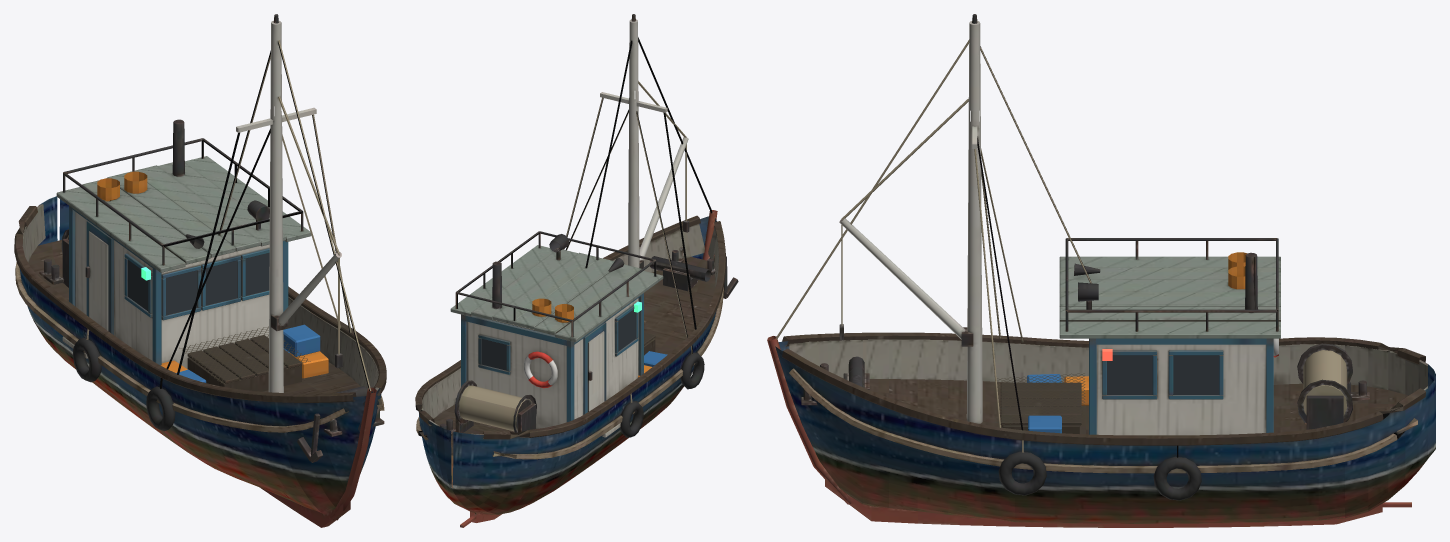
The model's file is fishing-boat.glb.
3 views of the same model, side by side, from view 1: azimuth 30°, elevation 25°; view 2: azimuth 150°, elevation 25°; view 3: azimuth 270°, elevation 25° (orthographic). The views are drawn at different scales.
Visible parts, largest first — view 1: fishing-boat-0, fishing-boat-windows, fishing-boat-net; view 2: fishing-boat-0, fishing-boat-windows; view 3: fishing-boat-0, fishing-boat-windows, fishing-boat-net.
Boxes of the visible parts, box(x1,y1,x2,y2) form: fishing-boat-0: box(14, 14, 386, 527); fishing-boat-windows: box(127, 253, 269, 315); fishing-boat-net: box(179, 326, 310, 383); fishing-boat-0: box(415, 14, 738, 527); fishing-boat-windows: box(481, 309, 635, 370); fishing-boat-0: box(767, 14, 1435, 527); fishing-boat-windows: box(1107, 355, 1218, 394); fishing-boat-net: box(997, 373, 1085, 424).
Bounding box in the file's own units: 3.24 × 7.65 × 9.06.
6 materials, 2 textured.
